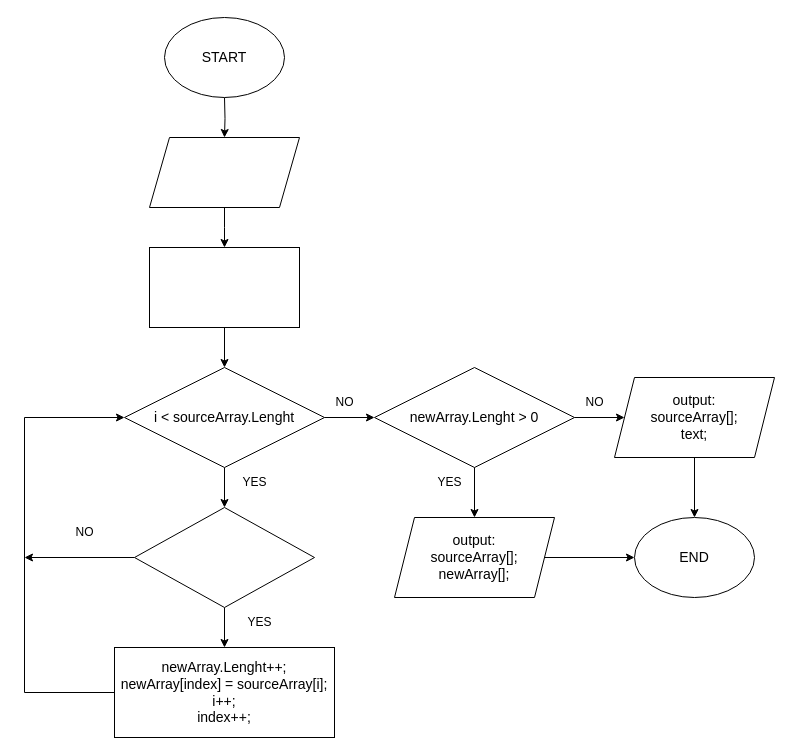
Some shapes in this 792 by 755 pixel diagram are drawn without their labels. The shapes that lost their labels are listed below. From the top down, each one's centre as x and y in pixels, then its label:
At point 224,172: "input: sourceArray[]".
At point 224,287: "i = 0; index = 0; newArray.Lenght = 0;".
At point 224,557: "sourceArray[i] <=3".
